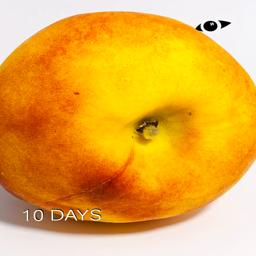Peach Semifresh: (0, 11, 256, 226)
